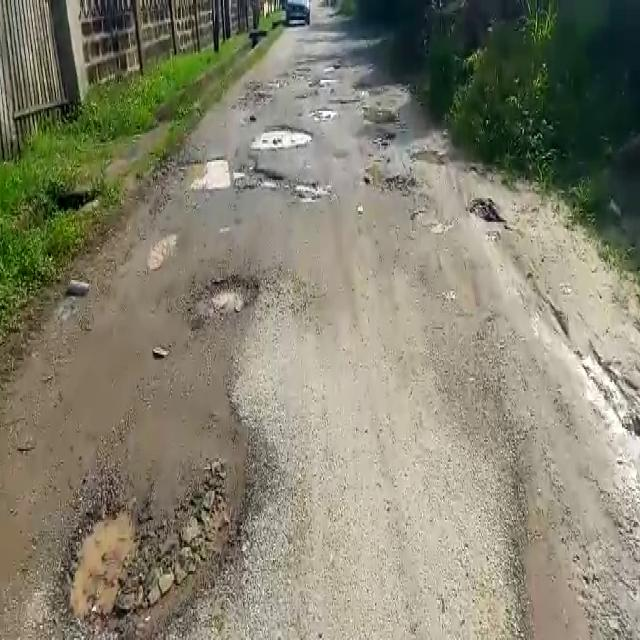Pothole: (56, 464, 268, 634), (187, 271, 264, 321), (175, 154, 283, 189), (253, 123, 314, 152), (292, 178, 326, 203)
